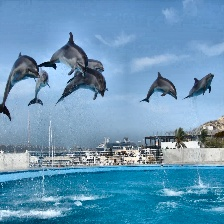dolphin: (49, 32, 107, 104), (140, 72, 178, 103)
